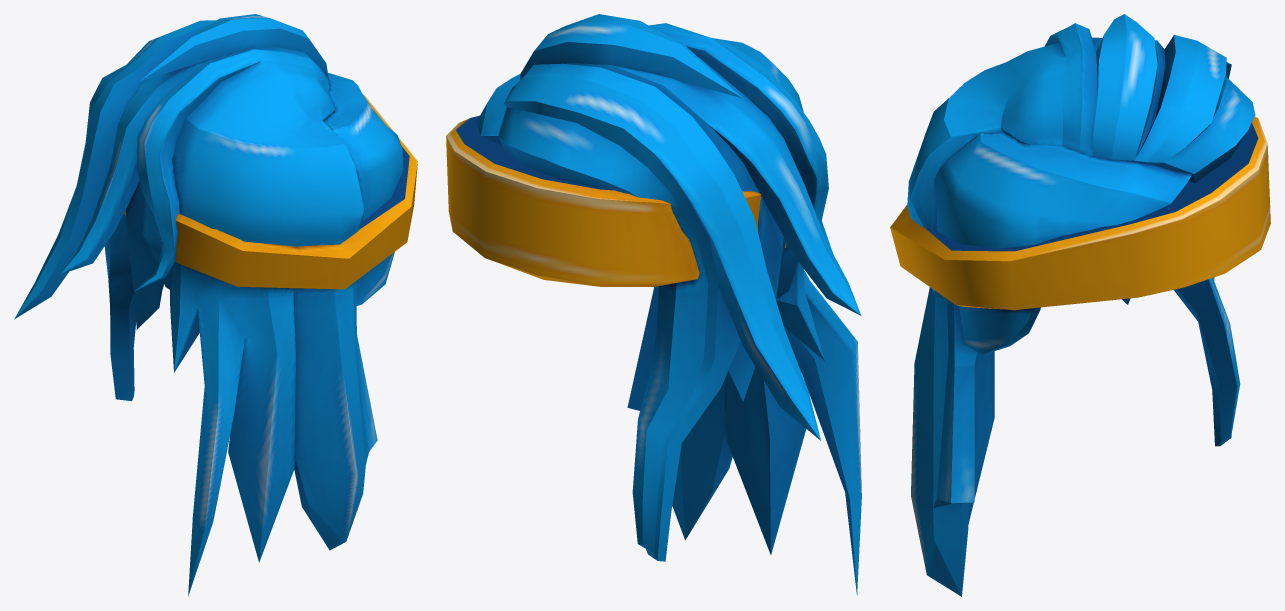
The picture shows the model from 3 angles, left to right: view 1: azimuth 30°, elevation 25°; view 2: azimuth 150°, elevation 25°; view 3: azimuth 270°, elevation 25°; orthographic projection. The views are drawn at different scales.
Visible parts, largest first — view 1: geometry_0; view 2: geometry_0; view 3: geometry_0.
Part boxes in pixels (x1,y1,x2,y2): geometry_0: [14, 14, 417, 596]; geometry_0: [446, 14, 861, 595]; geometry_0: [890, 14, 1270, 596].
Bounding box in the file's own units: 1.89 × 2.75 × 1.68.
Materials: 1 (1 with a texture image).
